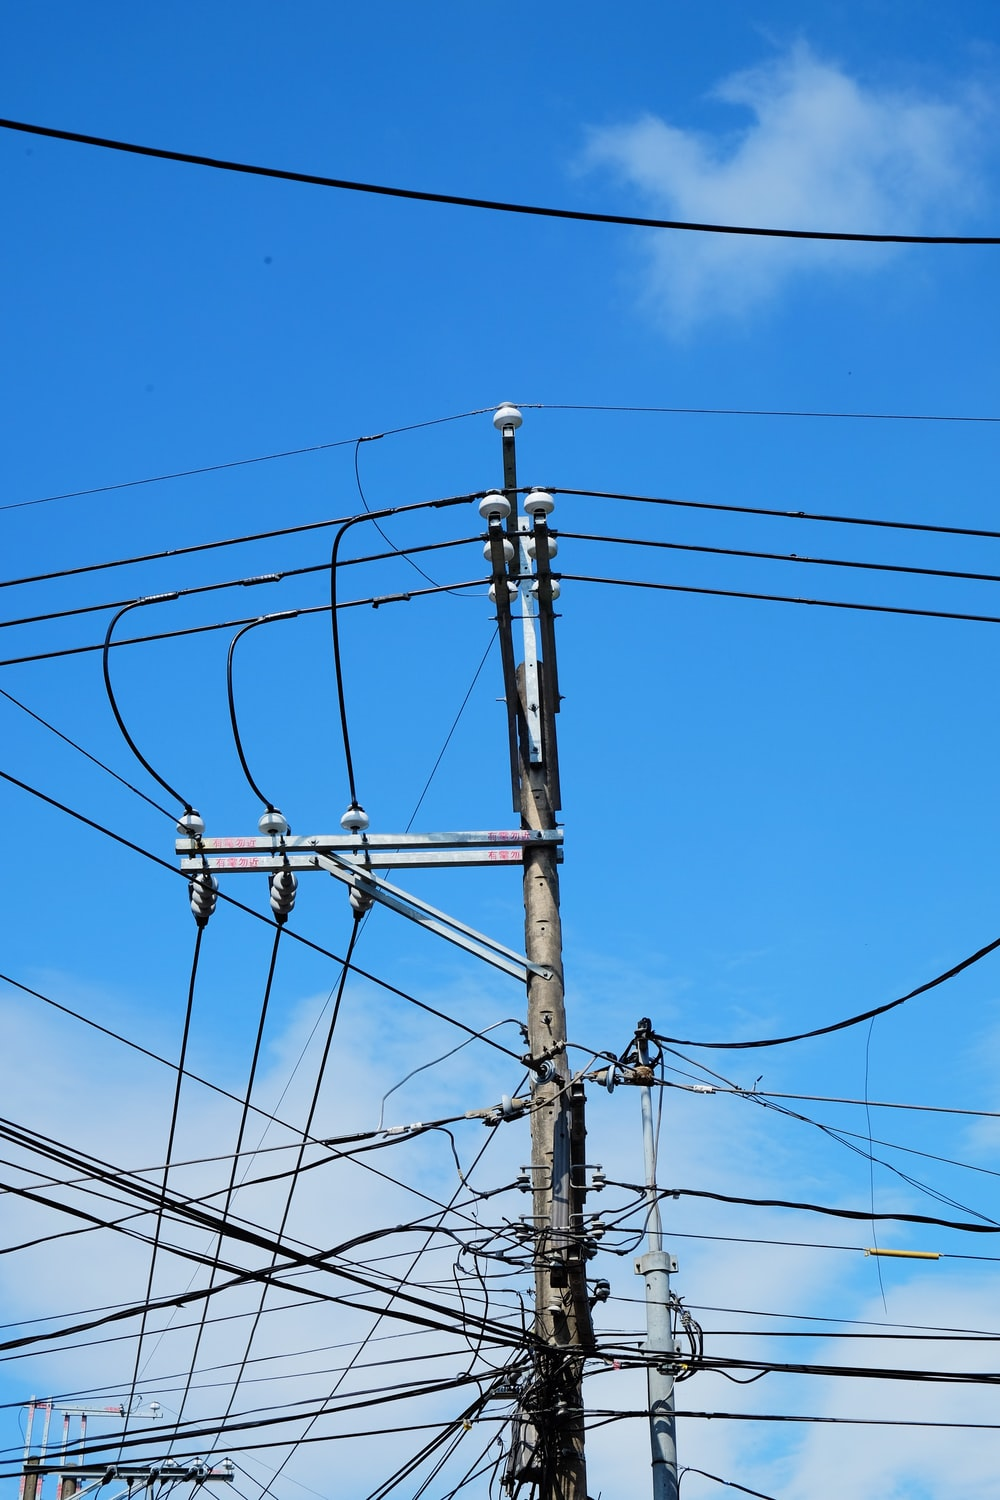utility_pole: (121, 366, 848, 1393)
